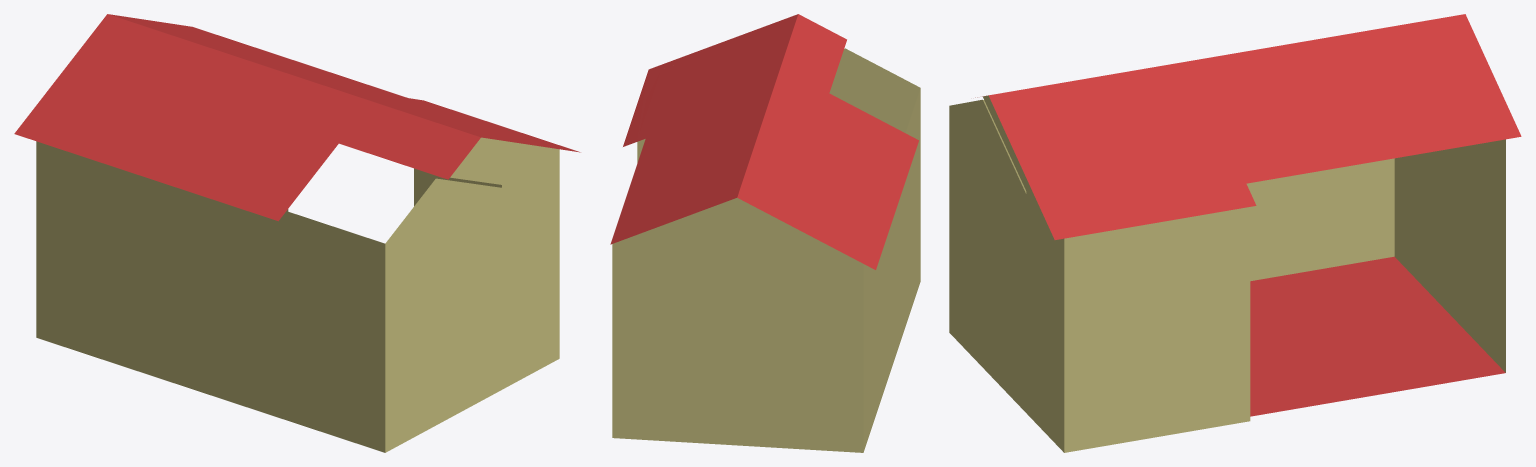
3 renders of one model, left to right at view 1: azimuth 30°, elevation 25°; view 2: azimuth 150°, elevation 25°; view 3: azimuth 270°, elevation 25°, orthographic. The views are drawn at different scales.
Size of the model in its own units: 14.89 by 16.74 by 9.6.
